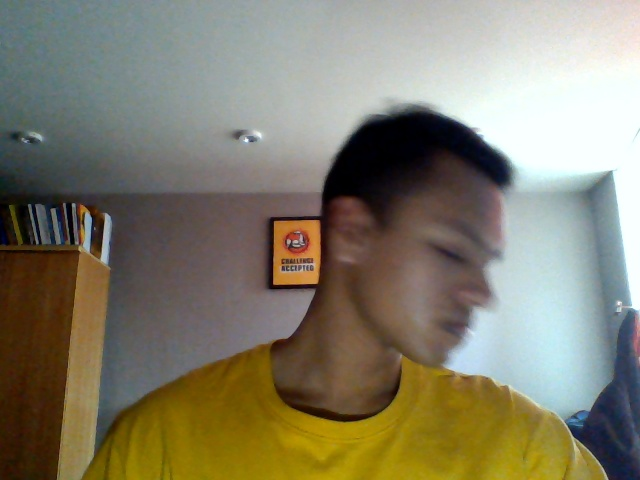no_mask: (339, 254, 495, 362)
